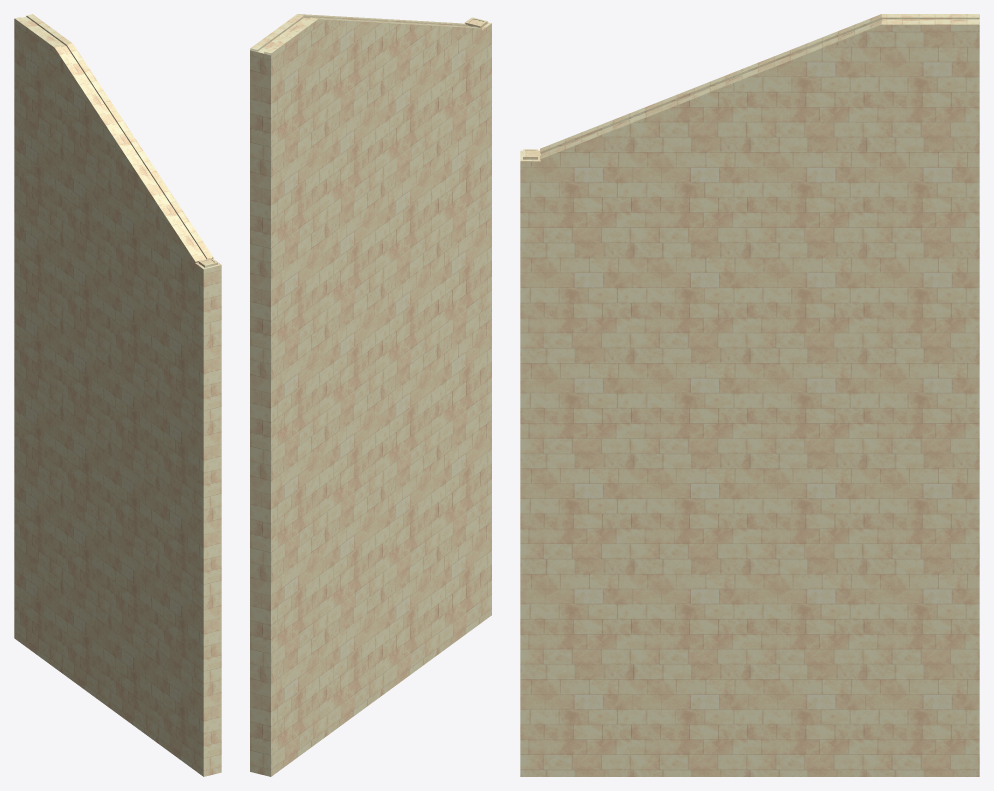
The model's file is Sm_guardrail.glb.
The picture shows the model from 3 angles, left to right: view 1: azimuth 30°, elevation 25°; view 2: azimuth 150°, elevation 25°; view 3: azimuth 270°, elevation 25°; orthographic projection. The views are drawn at different scales.
Visible parts, largest first — view 1: Sm_guardrail; view 2: Sm_guardrail; view 3: Sm_guardrail.
Boxes of the visible parts, box(x1,y1,x2,y2) form: Sm_guardrail: box(14, 14, 221, 776); Sm_guardrail: box(250, 14, 491, 776); Sm_guardrail: box(520, 14, 979, 776).
Bounding box in the file's own units: 0.8682 × 28.55 × 15.81.
Materials: 1 (1 with a texture image).
